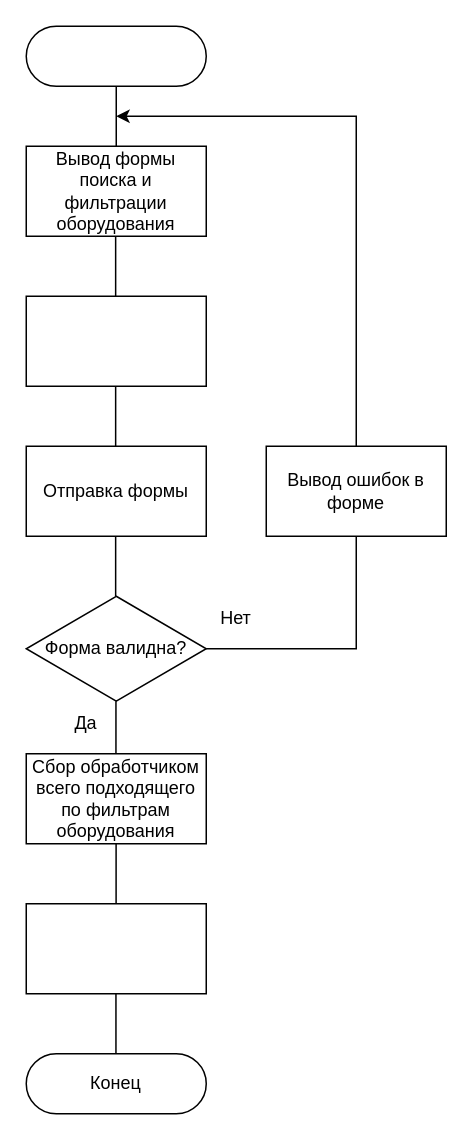
This 473x1140 diagram has some shape labels left out. Here are the shapes that lost their labels. From the top down, the centre of each, then its label:
point 115,55: Начало
point 115,340: Заполнение формы поиска оборудования
point 115,948: Отображение отфильтрованных записей оборудования
